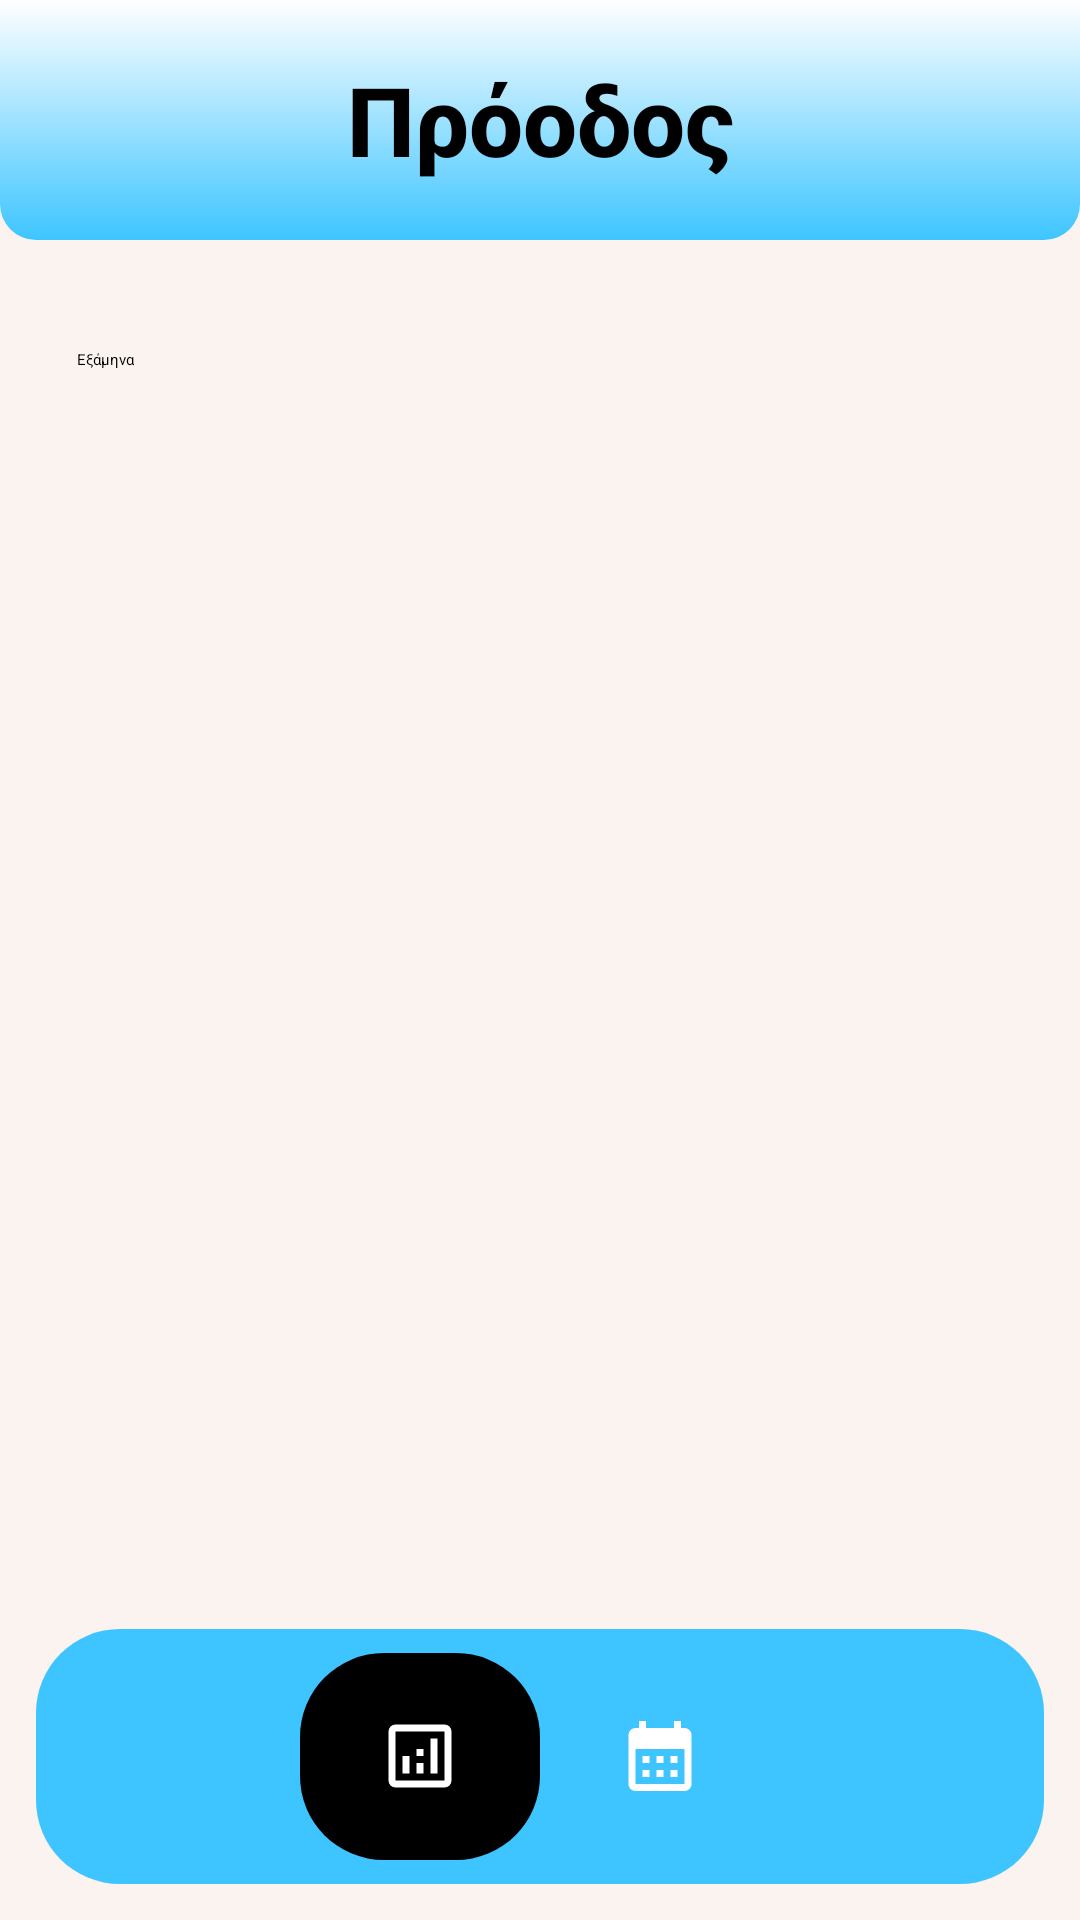

Where icons sit on this 1080 x 1920 app screen, as (x1, y1, x2, y2):
calendar: (628, 1721, 692, 1791)
progress: (388, 1724, 452, 1788)
